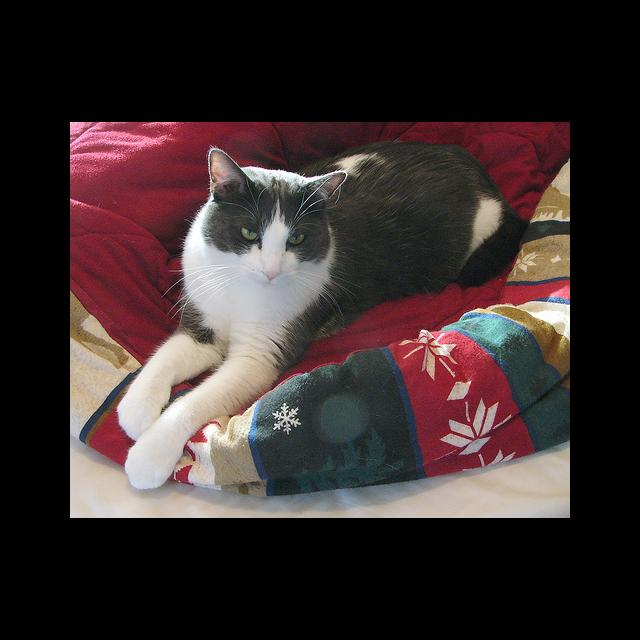animals: (213, 149, 344, 278)
